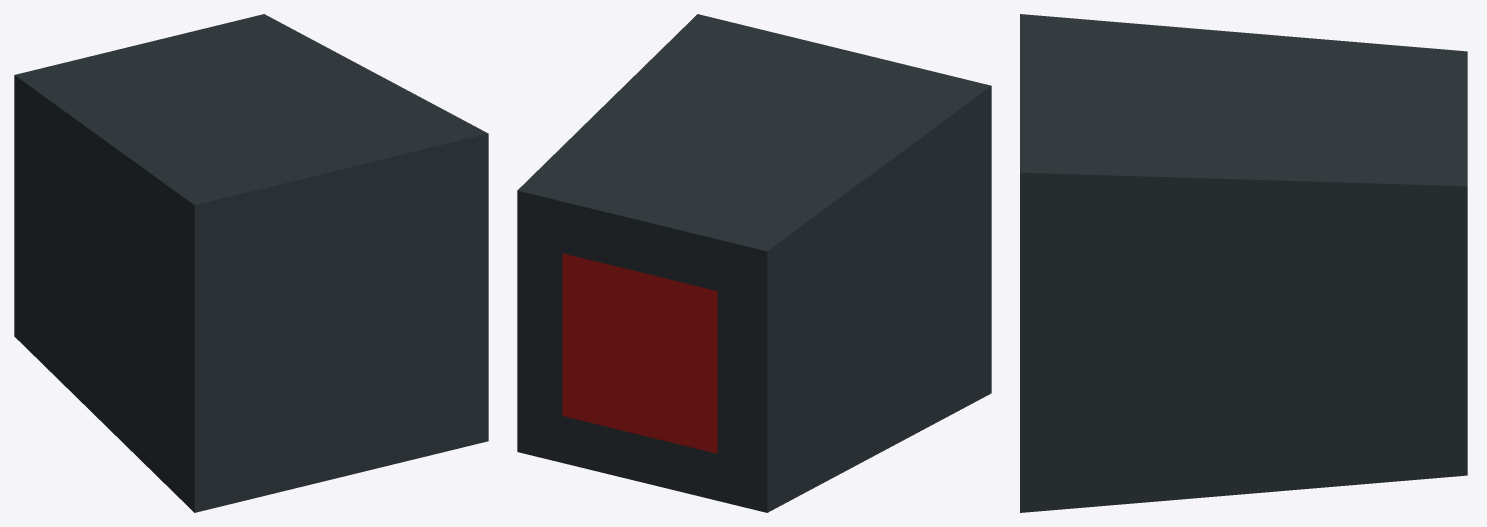
3 renders of one model, left to right at view 1: azimuth 30°, elevation 25°; view 2: azimuth 150°, elevation 25°; view 3: azimuth 270°, elevation 25°, orthographic. The views are drawn at different scales.
Visible parts, largest first — view 1: mount; view 2: mount; view 3: mount.
Boxes of the visible parts, <box> form: mount: <box>14,14,488,512</box>; mount: <box>517,14,991,512</box>; mount: <box>1020,14,1467,512</box>.
Size of the model in its own units: 2.12 by 2.12 by 2.56.
